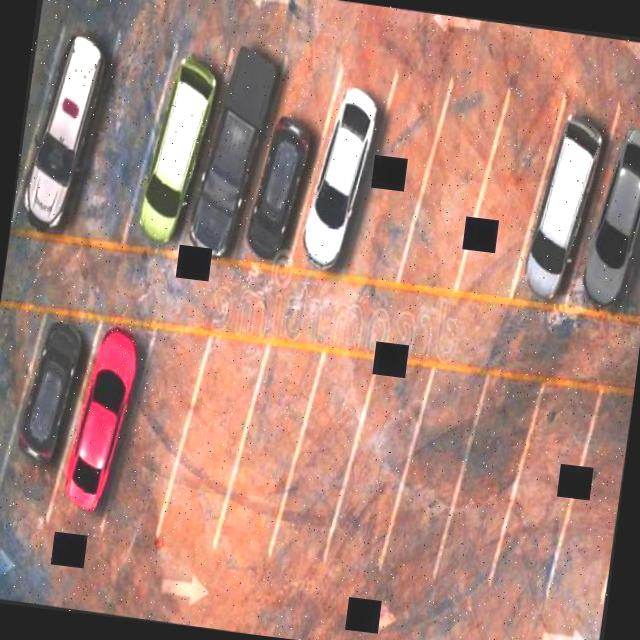car: (224, 40, 346, 288), (168, 32, 288, 278), (500, 82, 622, 320), (113, 35, 235, 268), (280, 56, 402, 286), (7, 18, 121, 261), (41, 311, 160, 541), (0, 293, 105, 530), (552, 83, 640, 338)
free: (424, 348, 550, 596), (482, 366, 610, 610), (90, 312, 218, 551), (388, 62, 516, 300), (56, 18, 180, 262), (372, 347, 494, 594), (328, 58, 454, 292), (317, 342, 441, 577), (150, 324, 272, 562), (208, 327, 328, 568), (263, 336, 384, 568), (450, 77, 570, 306), (542, 387, 632, 609), (0, 300, 50, 529)
